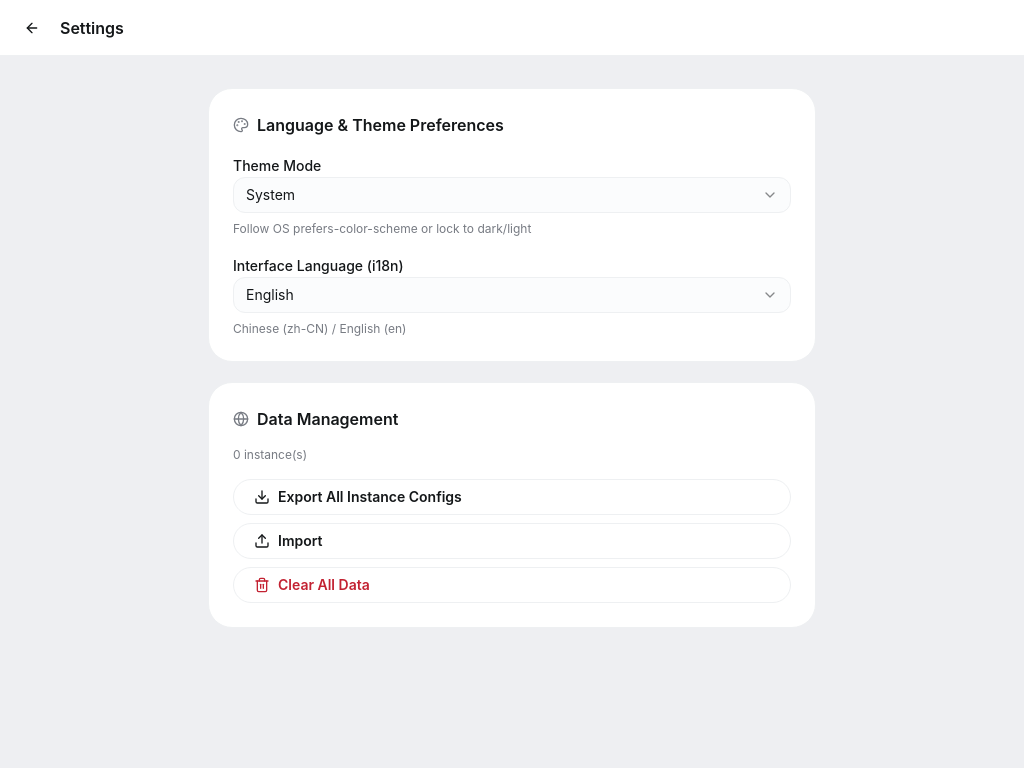
it: GlobalSettingsPage import dialog › reports unusable JSON as a parse failure, not "added 0, skipped 0"
Click the button "Import" at [300, 540], box left=233, top=523, right=791, bottom=559
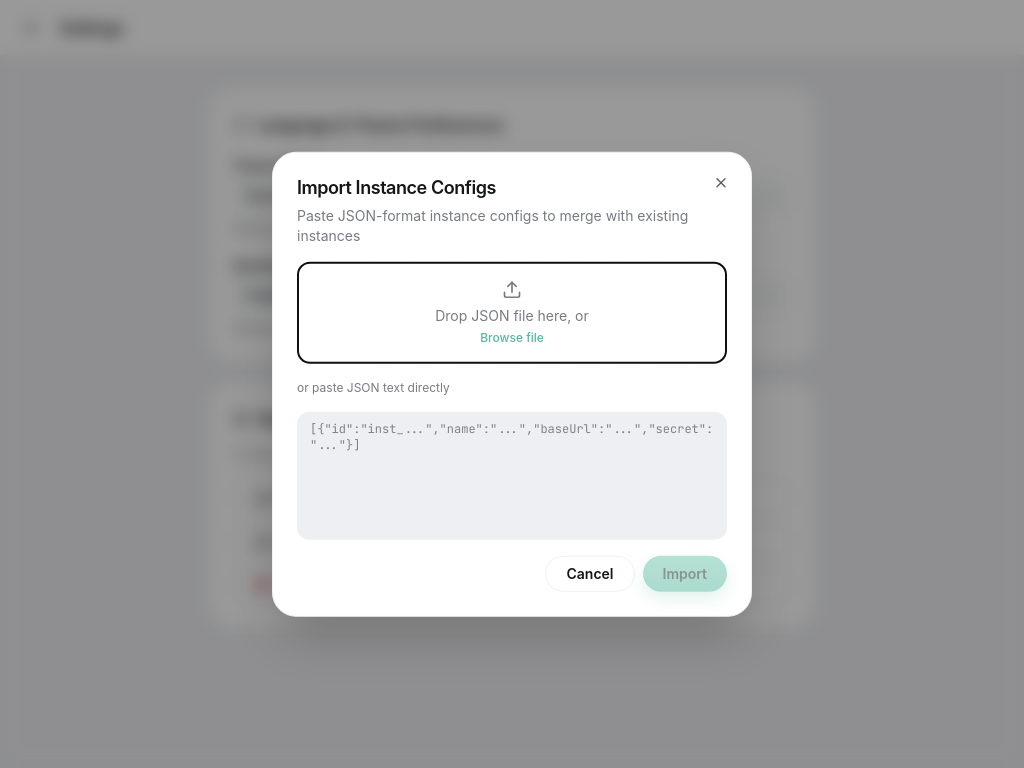
Replace the text in the text box named "Import Instance Configs" with "this is not json" at [512, 475], box left=297, top=411, right=727, bottom=539
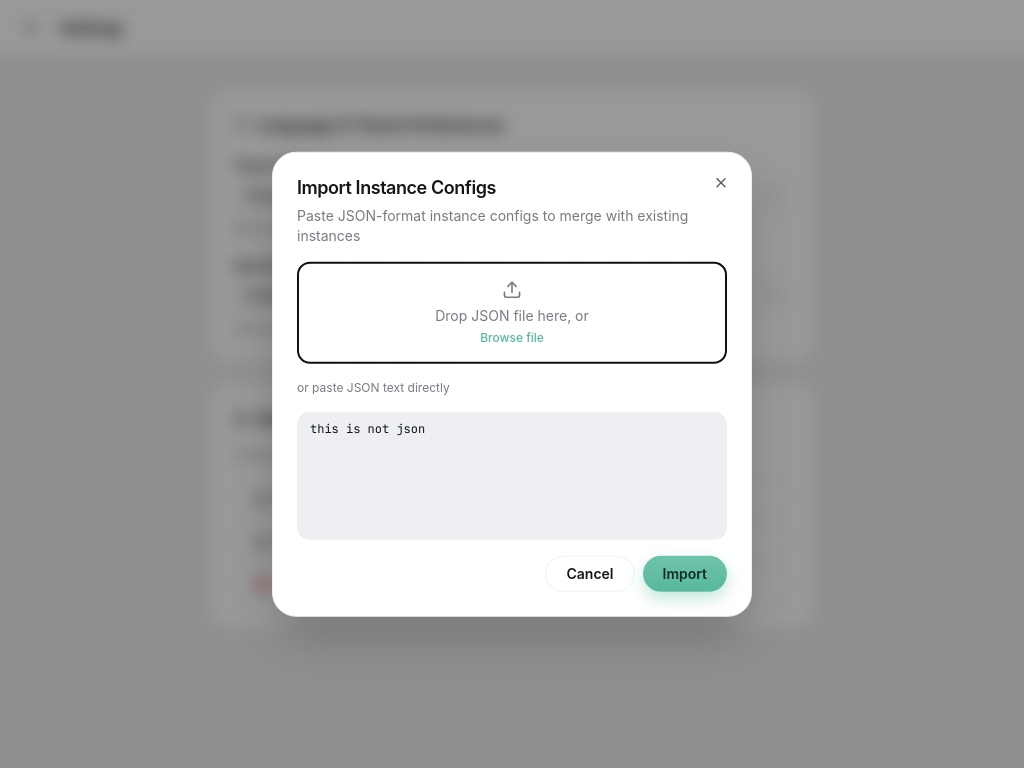
Click the button "Import" at [685, 573], box left=642, top=555, right=727, bottom=591
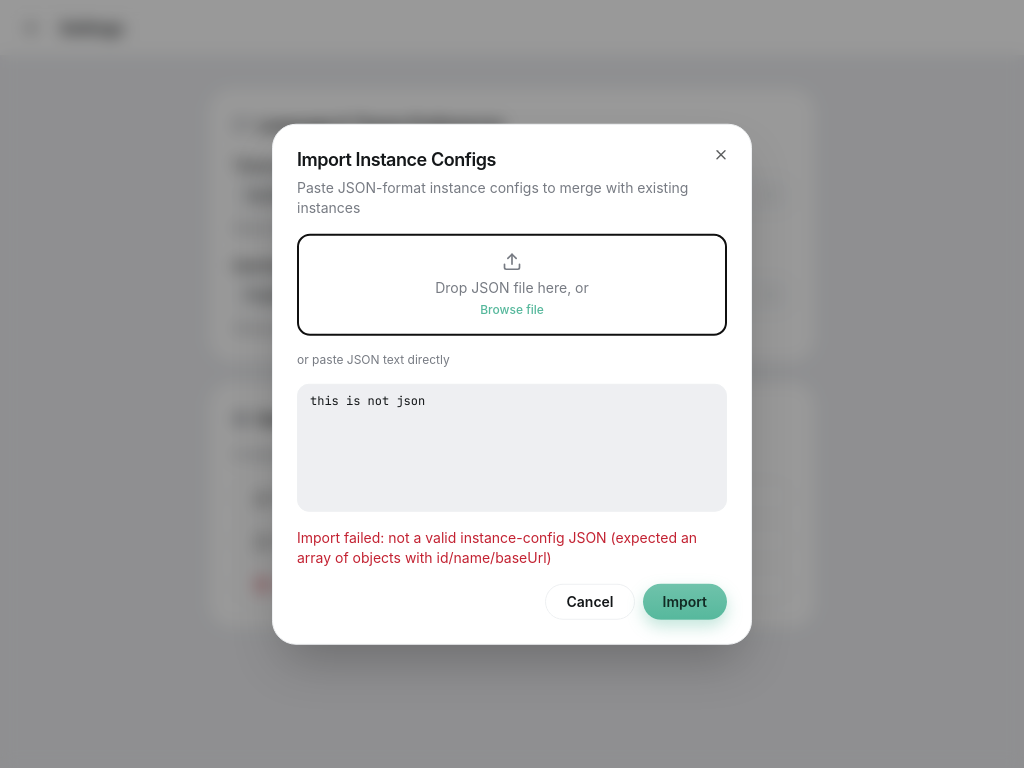
Check: the dialog is shown, box left=272, top=124, right=752, bottom=644
Check: the message shows "Import failed: not a valid instance-config JSON (expected an array of objects with id/name/baseUrl)", box left=297, top=528, right=697, bottom=565
